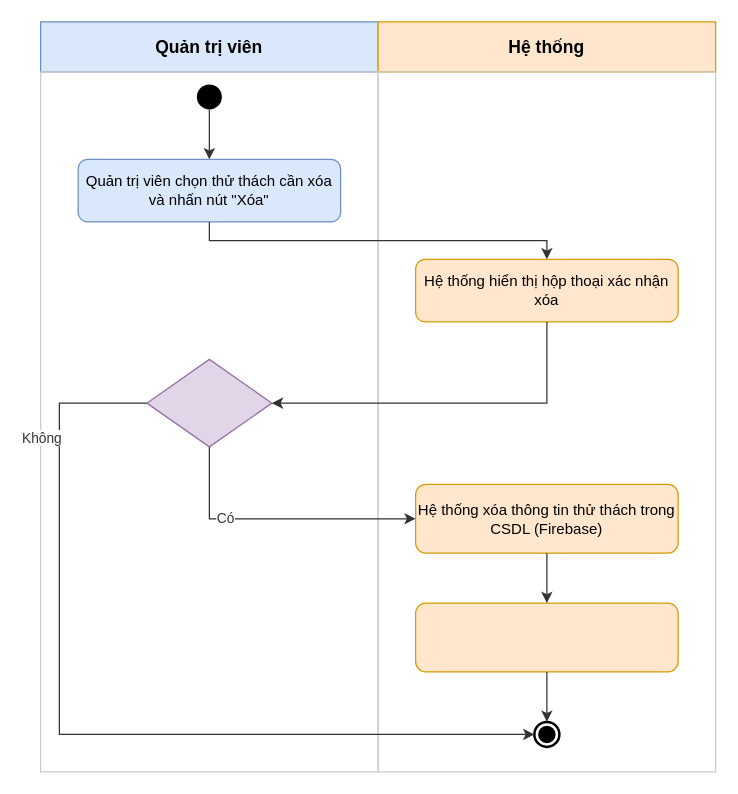
The diagram is 738 pixels wide and 794 high, and some of its shapes have lost their labels. The shapes that lost their labels are listed below. From the top down, each one's box as (x1, y1, x2, y2) in pixels, then its label:
(146, 358, 272, 447): Xác nhận xóa?
(414, 602, 678, 672): Hệ thống thông báo đã xóa thành công và cập nhật lại danh sách
